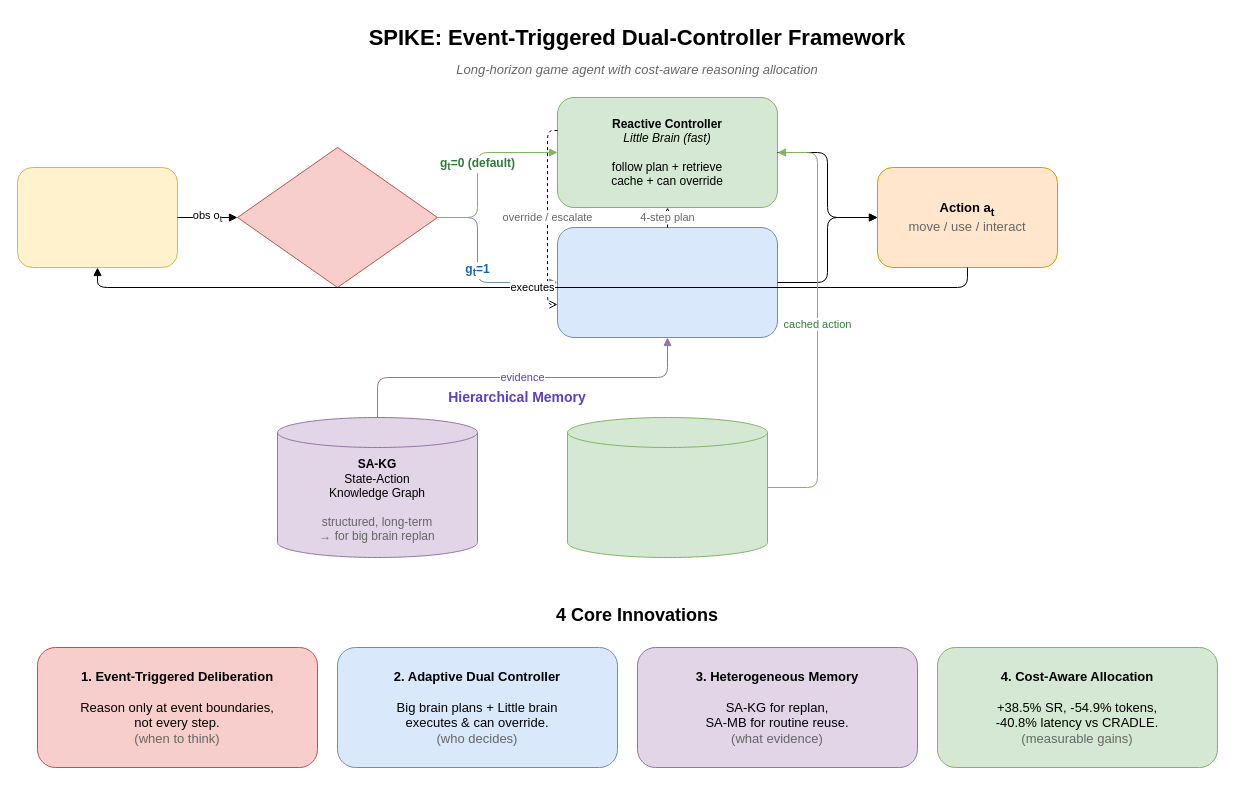
Image size: 1255x785. Some labels were removed from this diagram. The shapes that lost their labels are listed below. From the top down, each one's box as (x1, y1, x2, y2) in pixels, then its label:
(16, 166, 178, 268): Environment Stardew Valley screenshot + state
(236, 146, 438, 288): Event Trigger visual change progress / repetition failure
(556, 226, 778, 338): Strategic Controller Big Brain (slow) info gather → reflect → task reason → plan
(566, 416, 768, 558): SA-MB State-Action Memory Bank fast cache, short-term → for little brain reuse
